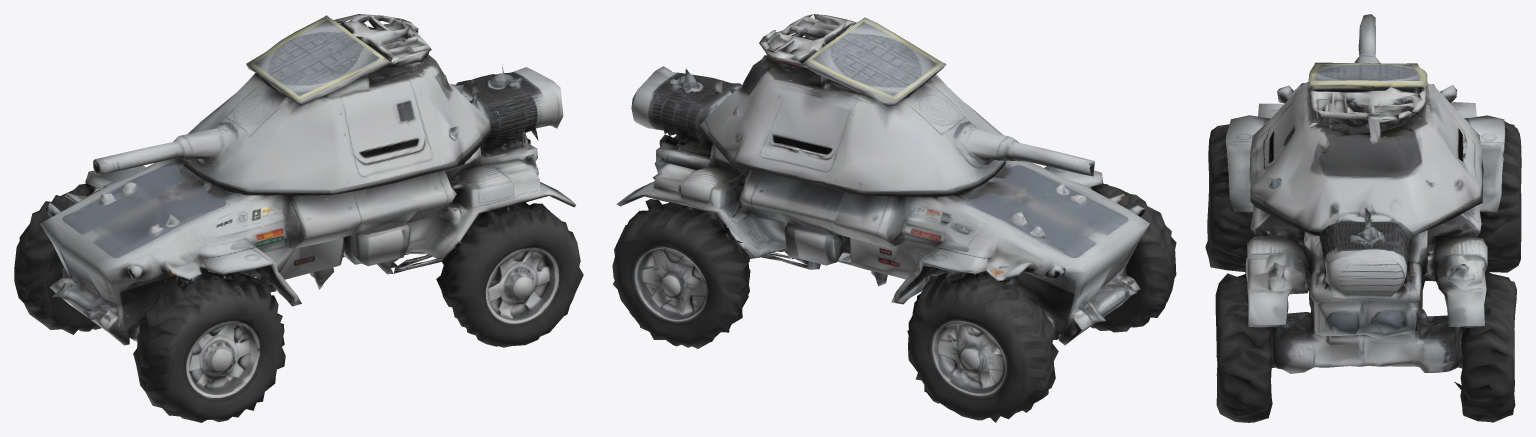
Rendered from Meshy_AI_A_lunar_light_tank_r_0417231220_texture.glb.
3 renders of one model, left to right at view 1: azimuth 30°, elevation 25°; view 2: azimuth 150°, elevation 25°; view 3: azimuth 270°, elevation 25°, orthographic.
Size of the model in its own units: 2 by 1.14 by 1.13.
1 material, 1 textured.
